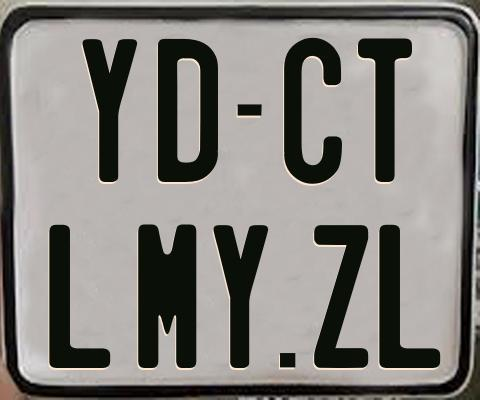C: (284, 37, 342, 189)
D: (158, 37, 223, 182)
L: (379, 223, 445, 366), (47, 225, 108, 369)
M: (136, 224, 197, 372)
T: (357, 38, 414, 184)
Y: (81, 39, 141, 182), (211, 224, 267, 370)
Z: (314, 225, 371, 373)
